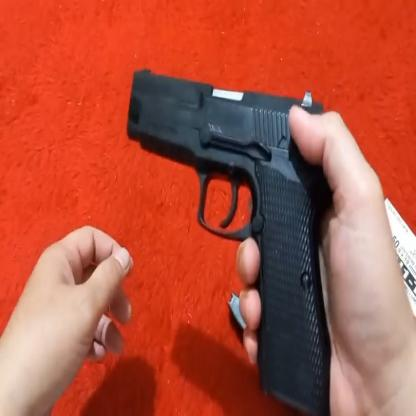handgun: (122, 59, 331, 416)
